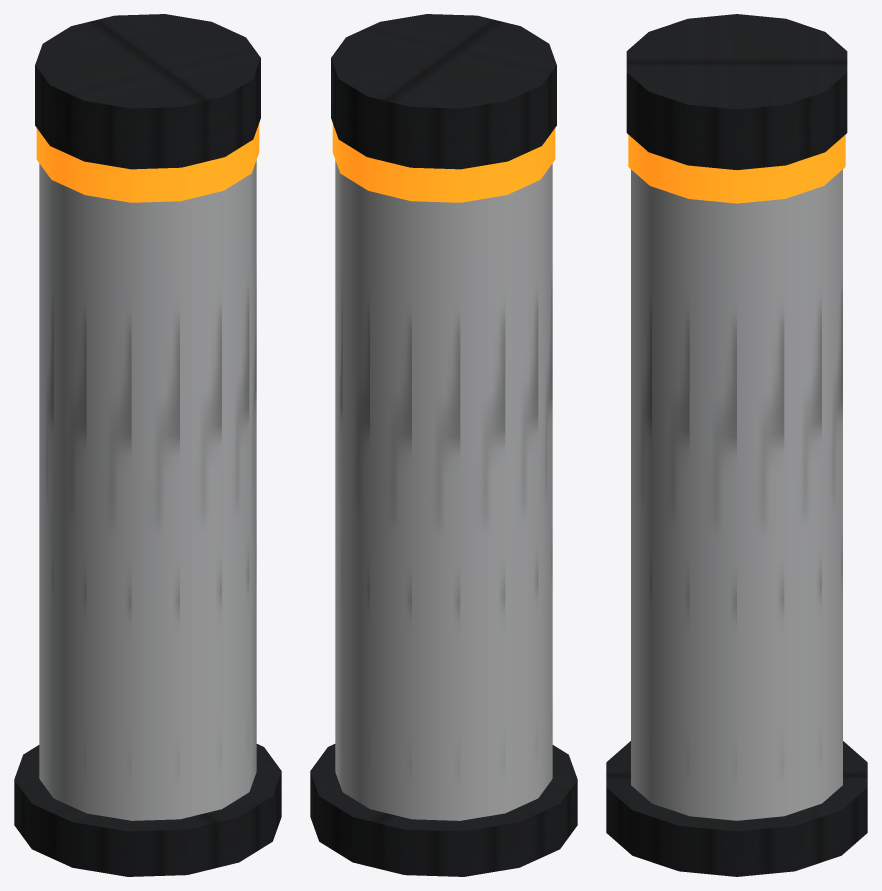
File: SM_INFD_Bollard.fbx
The picture shows the model from 3 angles, left to right: view 1: azimuth 30°, elevation 25°; view 2: azimuth 150°, elevation 25°; view 3: azimuth 270°, elevation 25°; orthographic projection.
Visible parts, largest first — view 1: SM_INFD_Bollard; view 2: SM_INFD_Bollard; view 3: SM_INFD_Bollard.
Boxes of the visible parts, x1,y1,x2,y2 form: SM_INFD_Bollard: (14,14,281,876); SM_INFD_Bollard: (310,14,577,876); SM_INFD_Bollard: (606,14,867,876).
Bounding box in the file's own units: 0.32 × 1 × 0.312.
